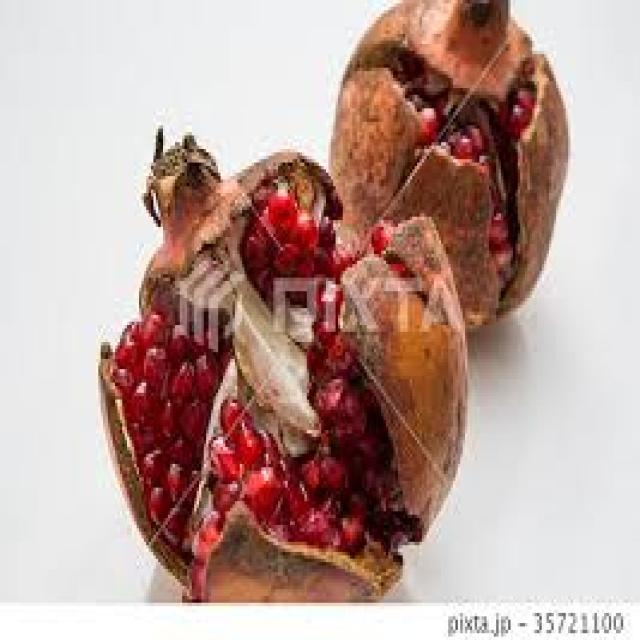overripe: (90, 120, 474, 610), (324, 0, 572, 328)
